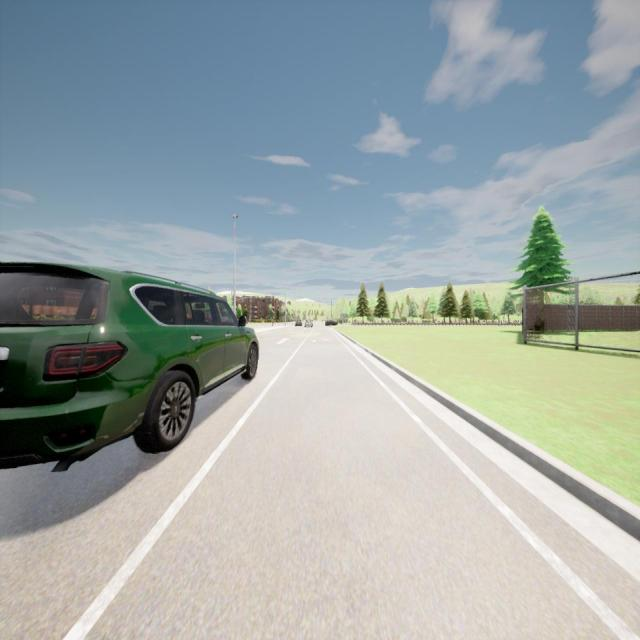Vehicle: (0, 262, 258, 469), (324, 319, 338, 327), (293, 319, 303, 327), (305, 320, 313, 329)
